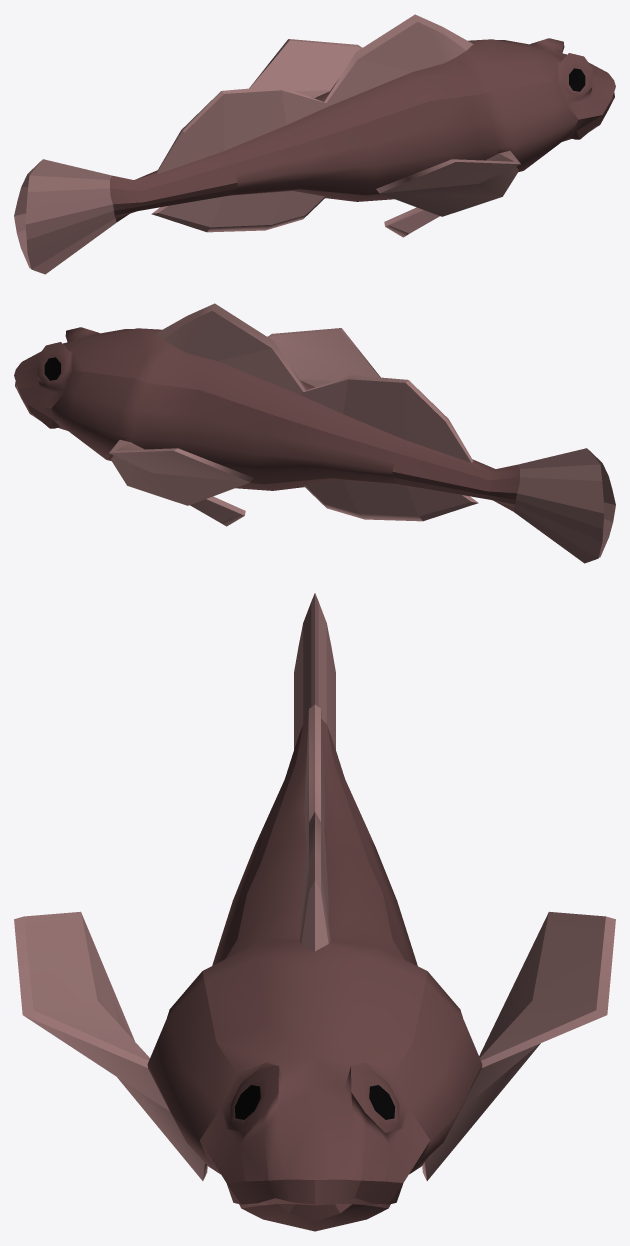
Rendered from char_sculpin_mdl_v01.fbx.
3 renders of one model, top to bottom at view 1: azimuth 30°, elevation 25°; view 2: azimuth 150°, elevation 25°; view 3: azimuth 270°, elevation 25°, orthographic. The views are drawn at different scales.
Parts seen in each view (by area): view 1: skulpin_geo; view 2: skulpin_geo; view 3: skulpin_geo.
Part boxes in pixels (bbox=[...]): skulpin_geo: bbox=[14, 14, 615, 274]; skulpin_geo: bbox=[14, 303, 615, 563]; skulpin_geo: bbox=[14, 593, 615, 1231].
Bounding box in the file's own units: 9.34 × 3.32 × 4.59.
